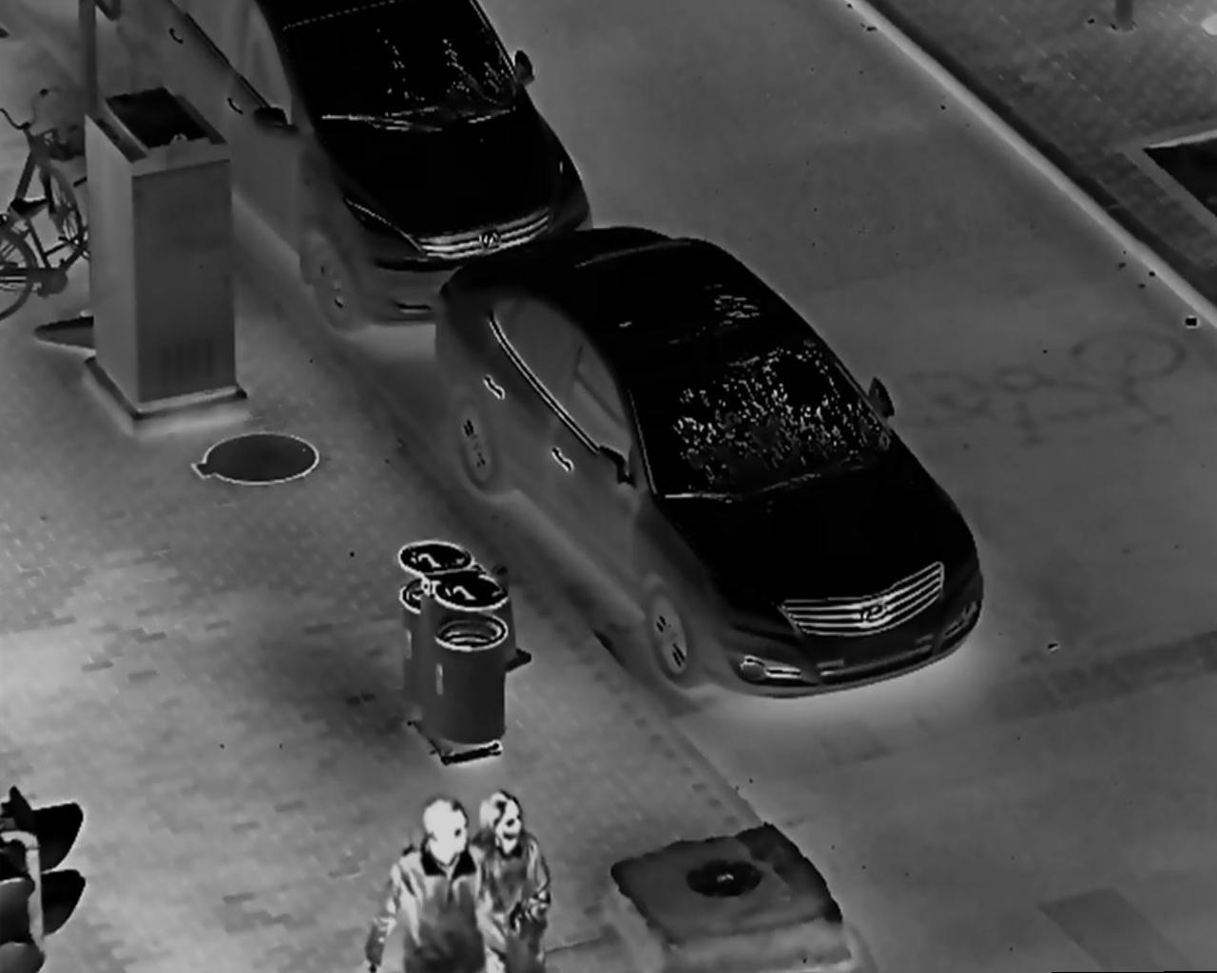person: (365, 794, 512, 973), (465, 790, 555, 973)
